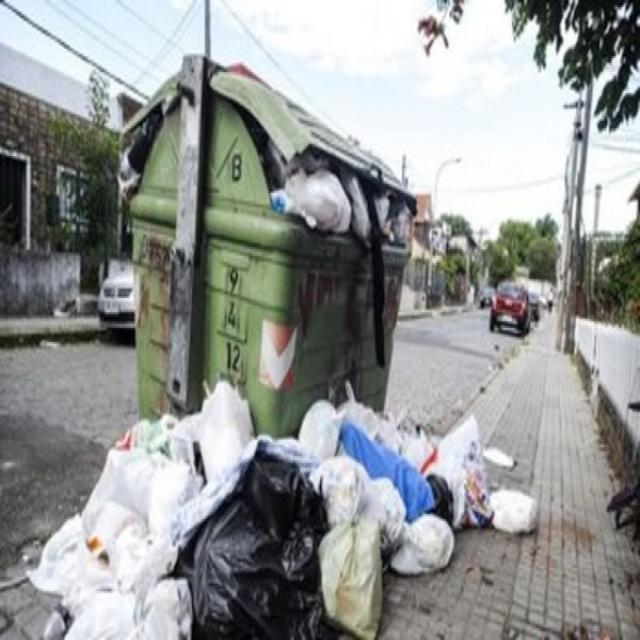garbage: (45, 374, 542, 638), (266, 149, 426, 268)
